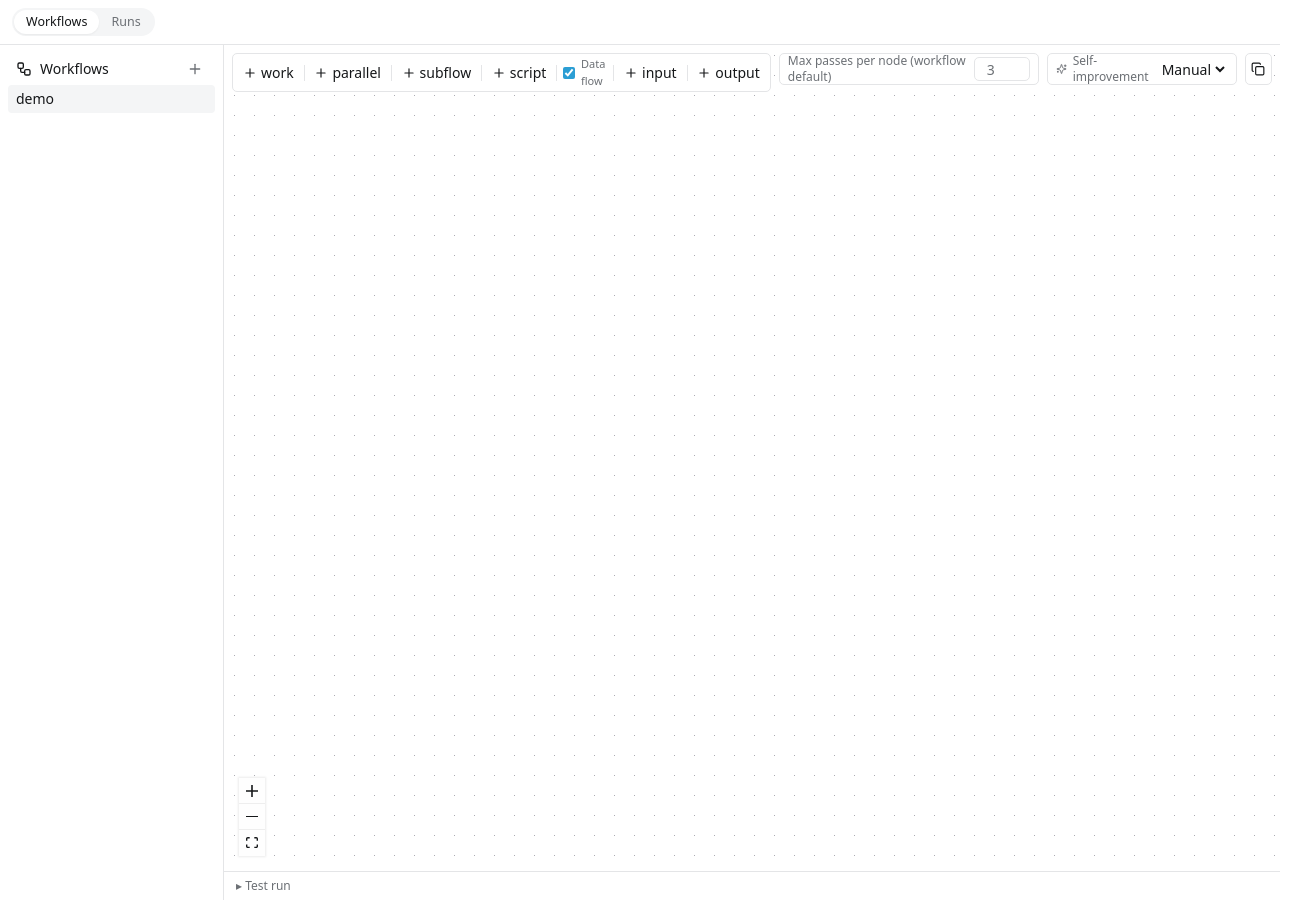
Test: WorkflowsView run detail › shows a loop-limit banner for an exhausted run
Click the button "▸ Test run" at {"x": 268, "y": 886}, box [224,872,1280,899]
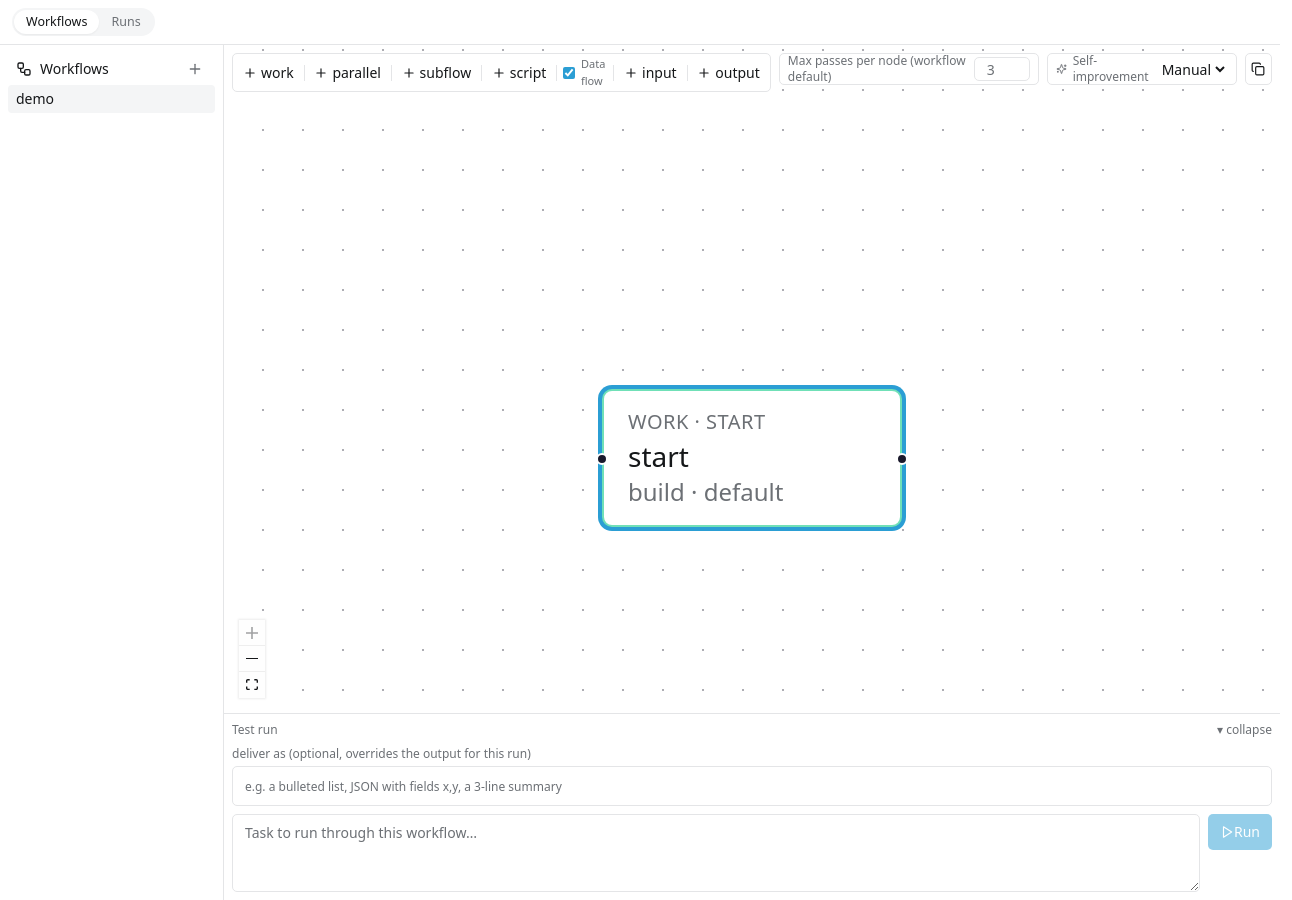
Type "do the thing" into the text box with placeholder "Task to run through this workflow…" at {"x": 716, "y": 853}, box [232,814,1200,892]
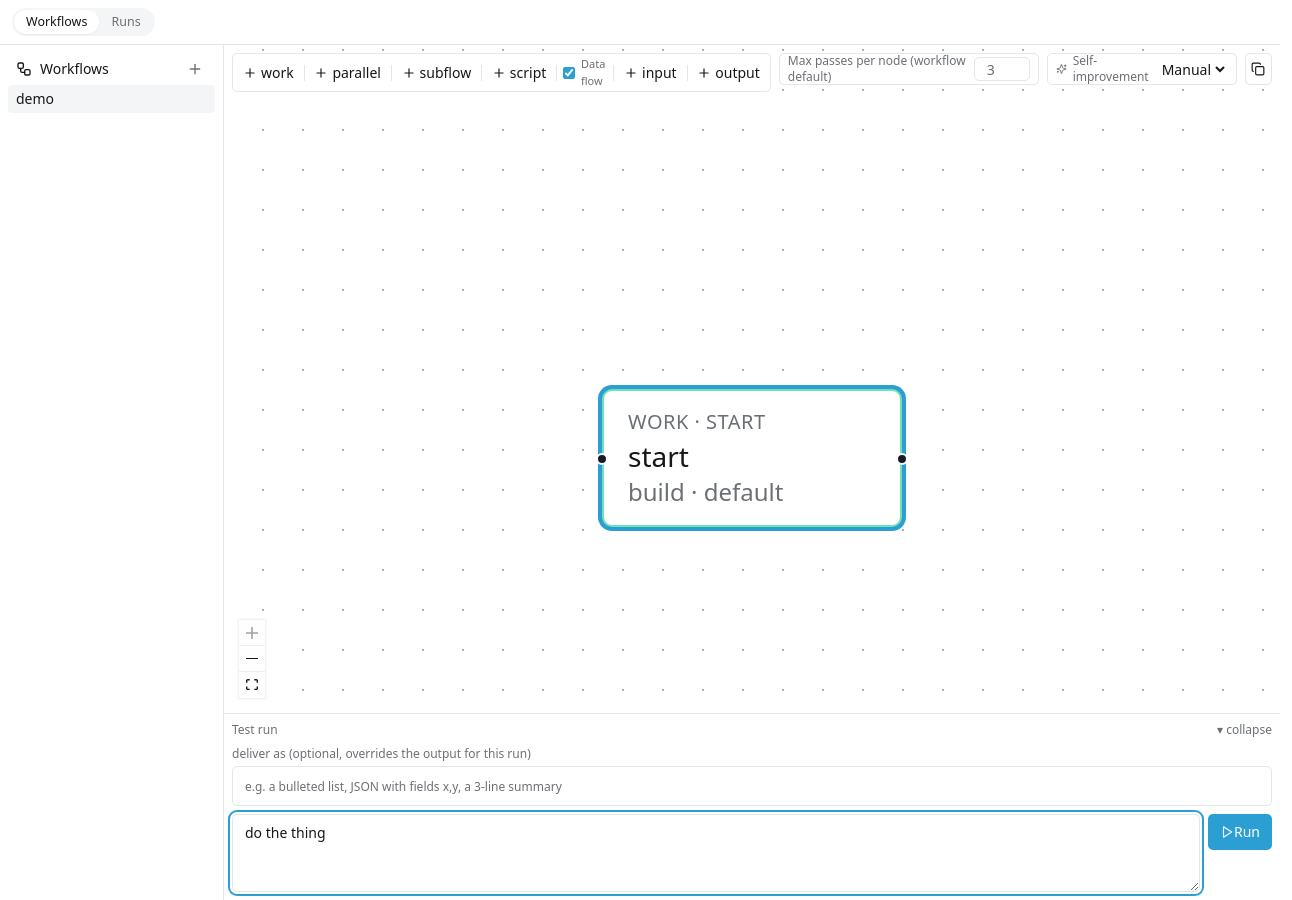
Click the button "Run" at {"x": 1240, "y": 832}, box [1208,814,1272,850]
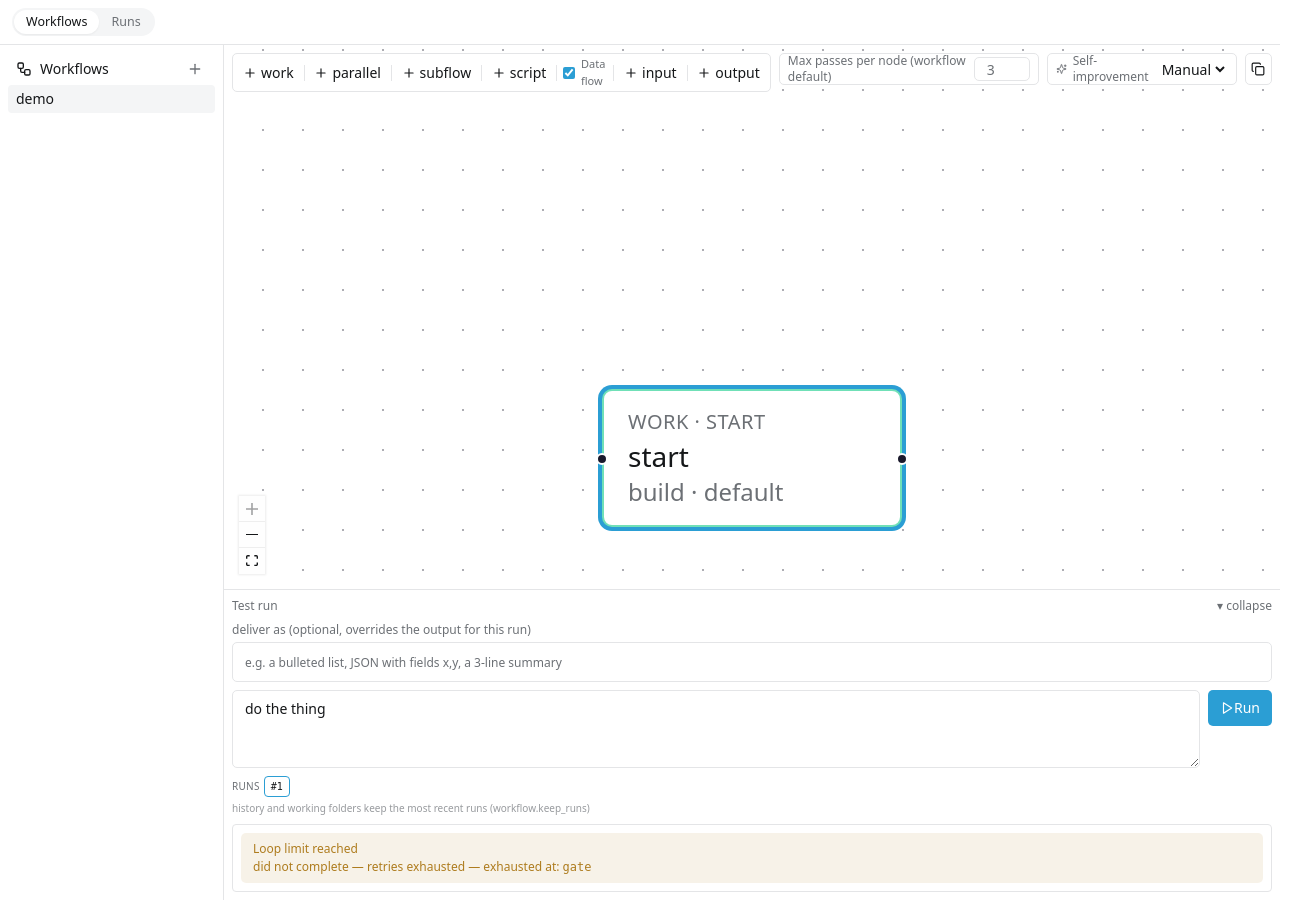
Check: the text "Loop limit reached" is shown, box [253,840,358,857]
Check: the text "gate" is shown, box [563,860,592,874]
